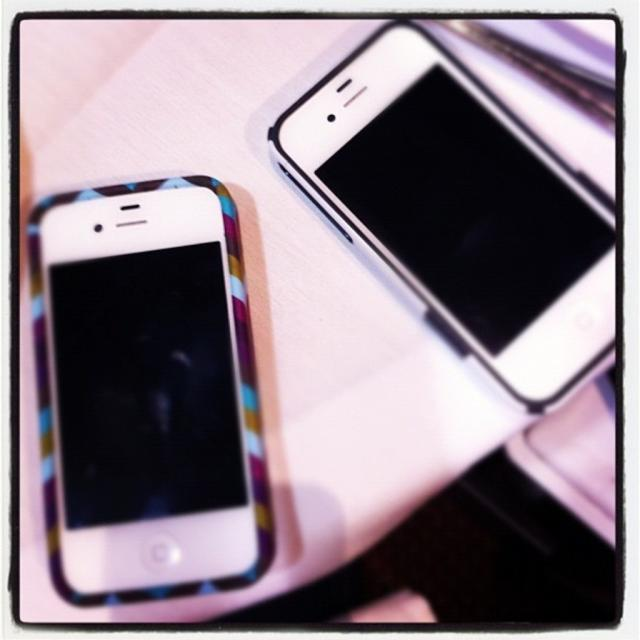Mobile-phone: (268, 21, 614, 415), (15, 166, 280, 620)
